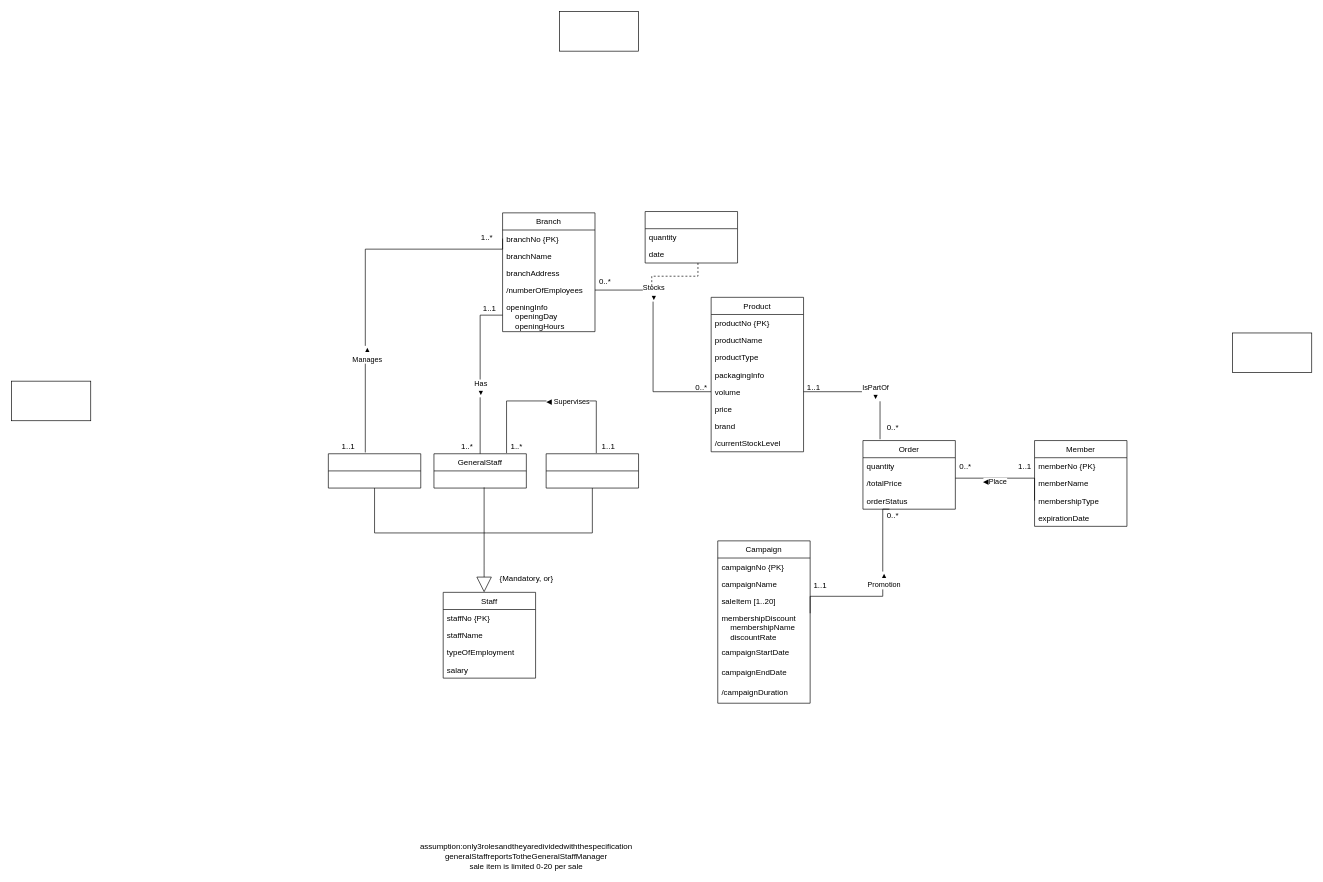
Image size: 1323x882. Some labels were removed from this diagram. Here are the shapes that lost their labels. From the top down, the centre of each, then its label:
At (374,470): "BranchManager".
At (592,470): "GeneralStaffManager".
